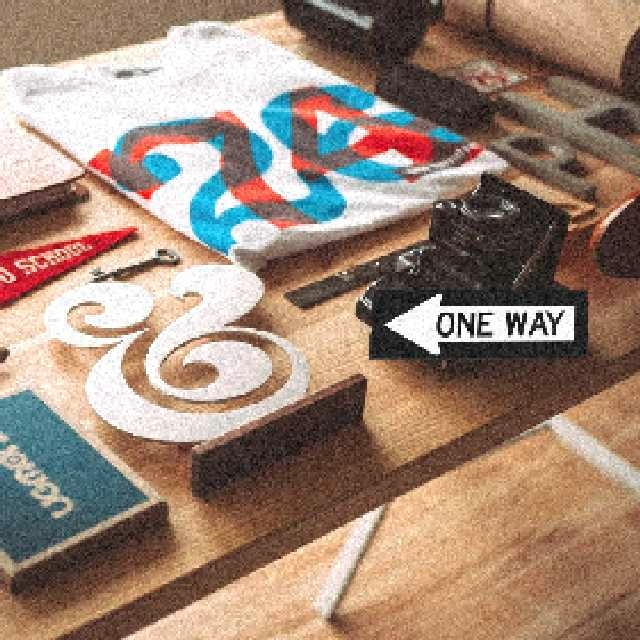ONE_WAY_ left: (366, 287, 587, 358)
